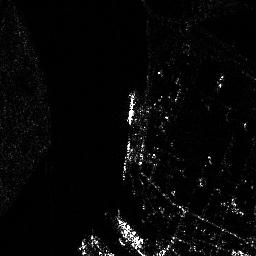ship: (115, 215, 143, 249), (125, 90, 136, 124)
